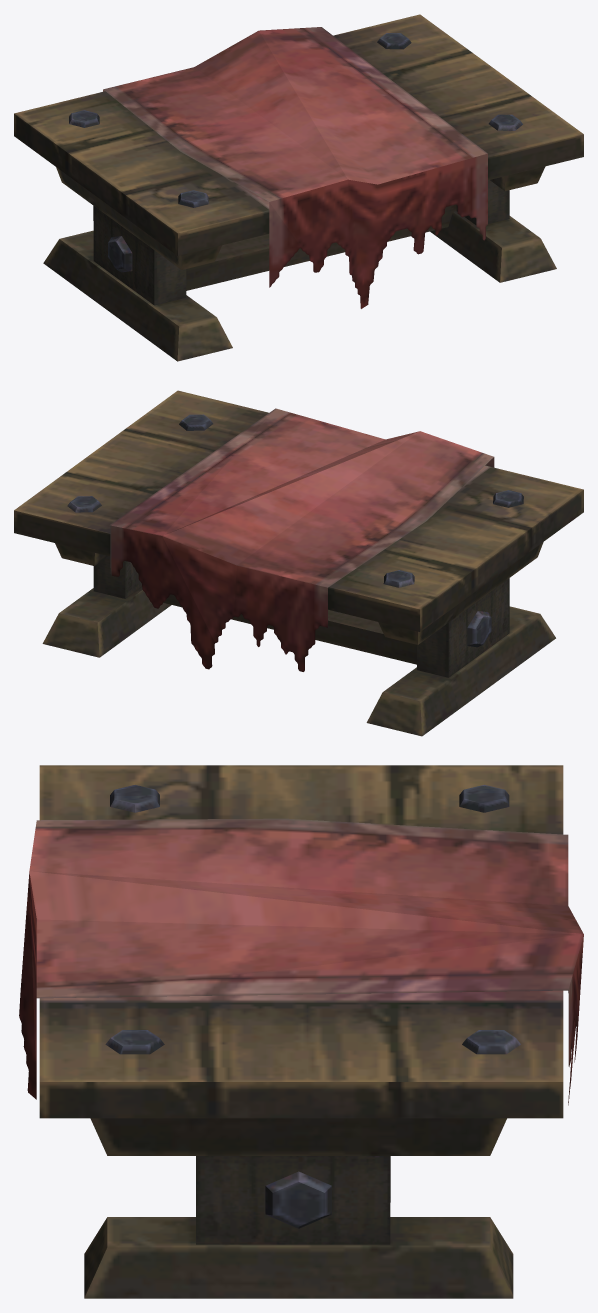
File: crypt_table02.fbx
3 renders of one model, top to bottom at view 1: azimuth 30°, elevation 25°; view 2: azimuth 150°, elevation 25°; view 3: azimuth 270°, elevation 25°, orthographic. The views are drawn at different scales.
Visible parts, largest first — view 1: obj1.007; view 2: obj1.007; view 3: obj1.007.
Boxes of the visible parts, bbox=[...] form: obj1.007: bbox=[14, 14, 583, 361]; obj1.007: bbox=[14, 390, 583, 736]; obj1.007: bbox=[19, 765, 583, 1298].
Bounding box in the file's own units: 2.93 × 1.09 × 2.23.
